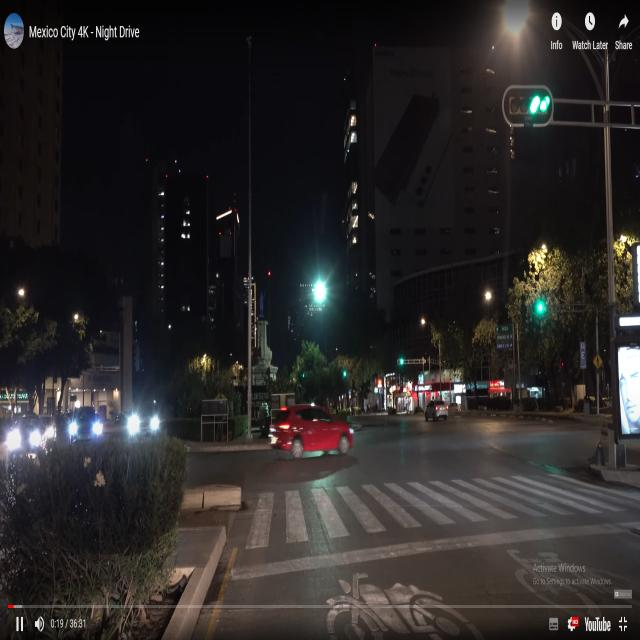headlights: (6, 421, 44, 460), (124, 410, 164, 443), (65, 417, 106, 448)
